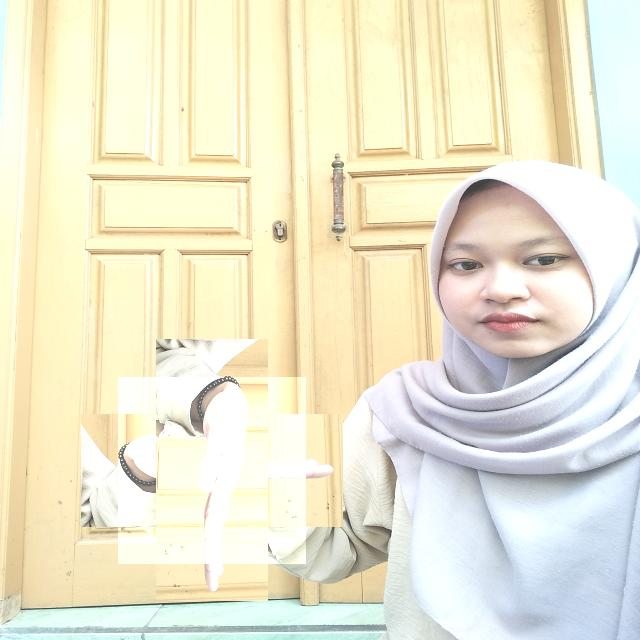adik: (118, 377, 306, 564)
